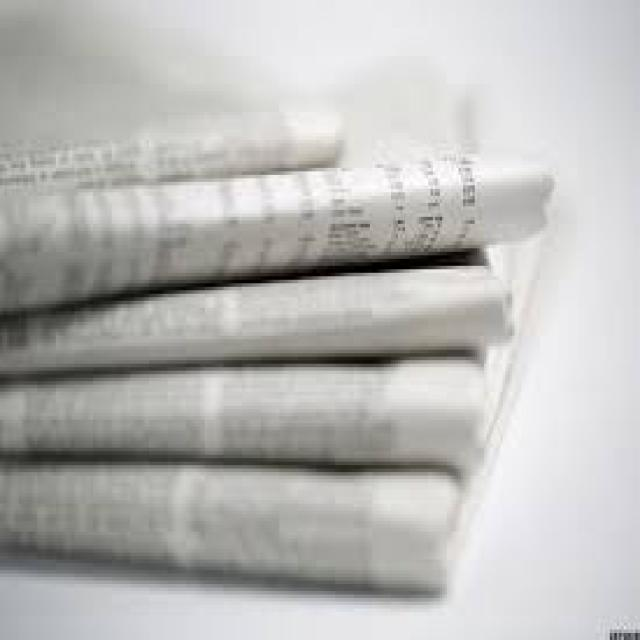paper: (0, 150, 552, 308), (0, 451, 514, 598), (0, 259, 524, 371), (0, 371, 498, 483), (0, 108, 347, 189)
